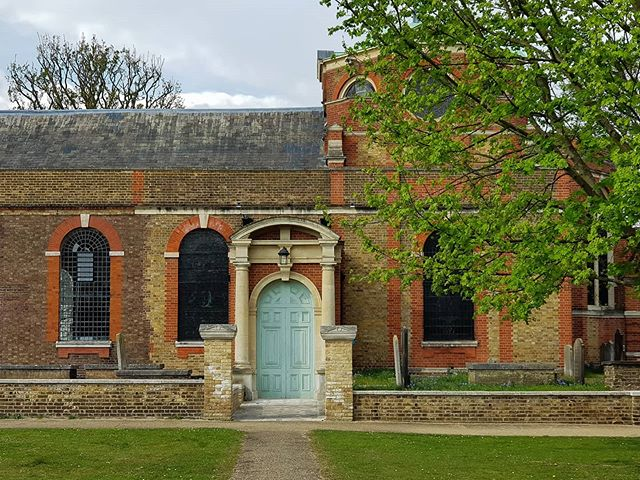building: (1, 105, 630, 388)
door: (248, 279, 324, 395)
sky: (1, 1, 309, 102)
tree: (357, 1, 640, 305)
